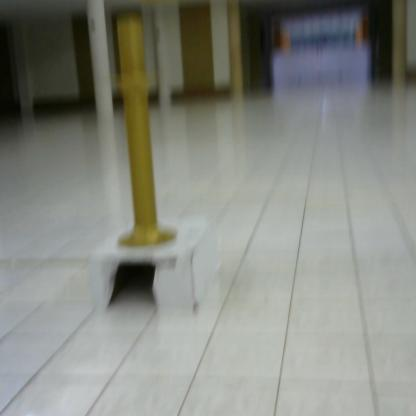pole: (100, 15, 185, 253)
